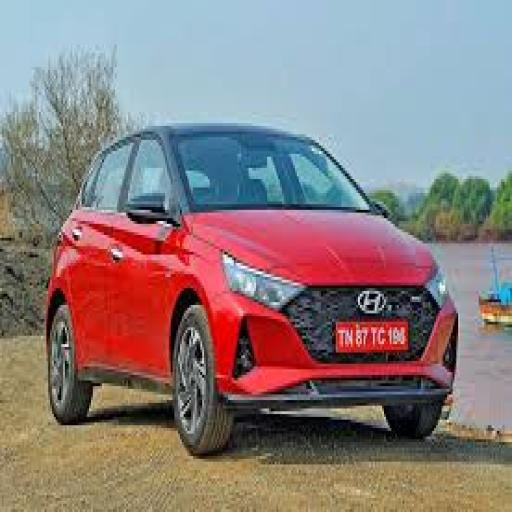License: (331, 316, 414, 360)
